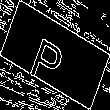P_NE: (34, 25, 76, 85)
